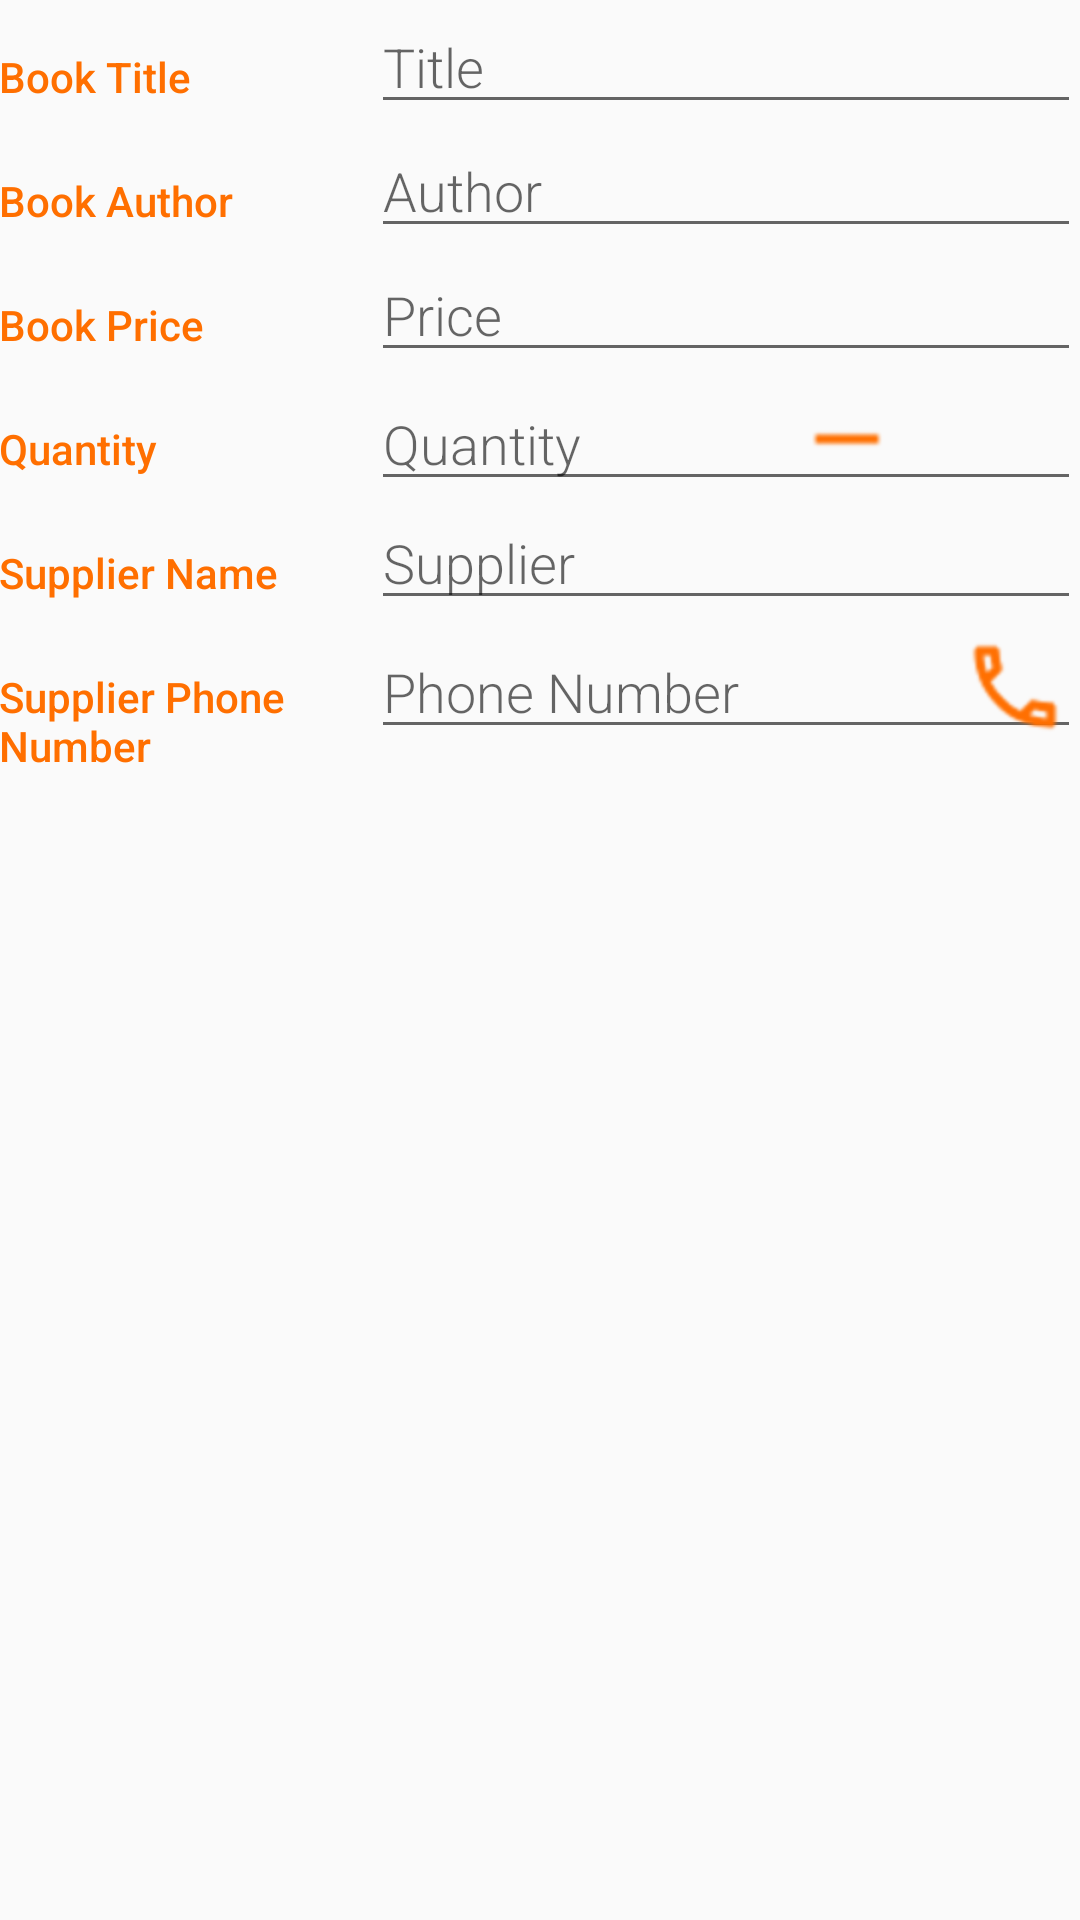

Icons on this 1080w x 1920h Android screen, each with its box as (x1, y1, x2, y2):
local phone: (961, 644, 1069, 730)
remove: (813, 432, 881, 446)
